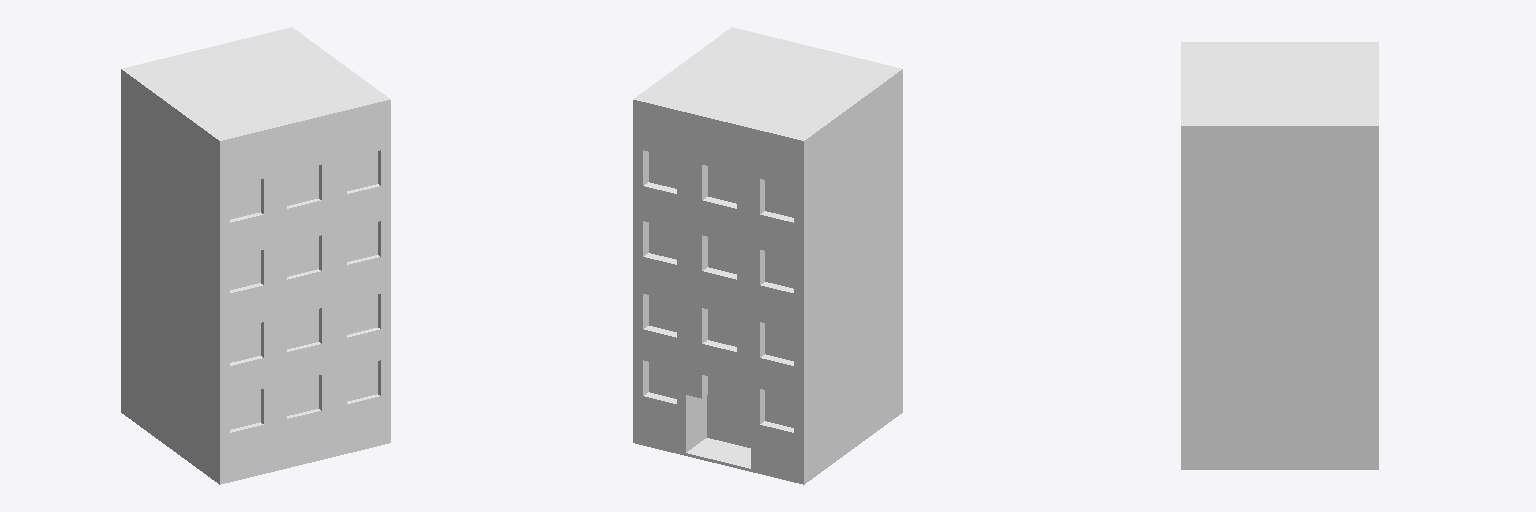
The picture shows the model from 3 angles: view 1: azimuth 30°, elevation 25°; view 2: azimuth 150°, elevation 25°; view 3: azimuth 270°, elevation 25°; orthographic projection.
Parts seen in each view (by area): view 1: 立方体_立方体.002; view 2: 立方体_立方体.002; view 3: 立方体_立方体.002.
Boxes of the visible parts, <box> form: 立方体_立方体.002: <box>121,27,390,484</box>; 立方体_立方体.002: <box>633,27,902,484</box>; 立方体_立方体.002: <box>1181,42,1378,469</box>.
Size of the model in its own units: 2 by 3.84 by 2.
1 materials, 1 textured.